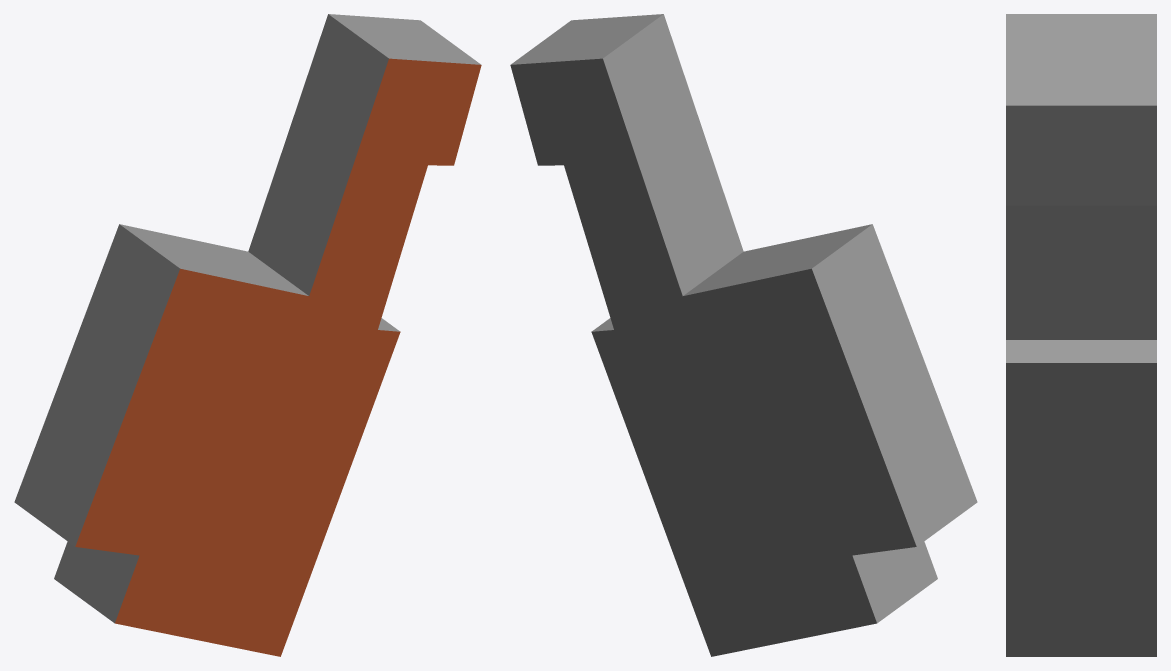
File: construction_5148_assumed_A_Casa_h6m.obj
The picture shows the model from 3 angles, left to right: view 1: azimuth 30°, elevation 25°; view 2: azimuth 150°, elevation 25°; view 3: azimuth 270°, elevation 25°; orthographic projection. The views are drawn at different scales.
Parts seen in each view (by area): view 1: construction_5148_assumed_A_Casa; view 2: construction_5148_assumed_A_Casa; view 3: construction_5148_assumed_A_Casa.
Part boxes in pixels (x1,y1,x2,y2): construction_5148_assumed_A_Casa: (14, 14, 481, 656); construction_5148_assumed_A_Casa: (510, 14, 977, 656); construction_5148_assumed_A_Casa: (1006, 14, 1156, 656).
Size of the model in its own units: 23.1 by 31.07 by 6.
